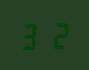three: (19, 20, 43, 50)
two: (44, 20, 68, 49)
